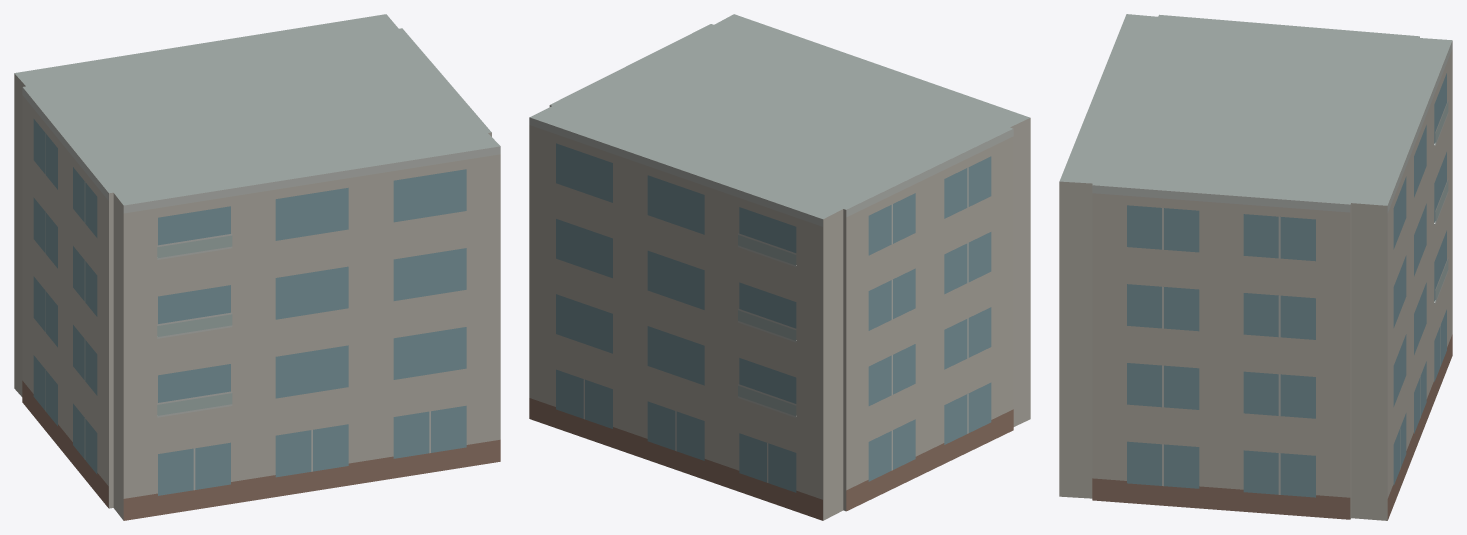
Rendered from survey-upis-32982369.glb.
The picture shows the model from 3 angles, left to right: view 1: azimuth 30°, elevation 25°; view 2: azimuth 150°, elevation 25°; view 3: azimuth 270°, elevation 25°; orthographic projection. The views are drawn at different scales.
Parts seen in each view (by area): view 1: survey-upis-32982369.tmp; view 2: survey-upis-32982369.tmp; view 3: survey-upis-32982369.tmp.
Boxes of the visible parts, x1,y1,x2,y2 form: survey-upis-32982369.tmp: (14, 14, 500, 520); survey-upis-32982369.tmp: (529, 14, 1030, 520); survey-upis-32982369.tmp: (1059, 14, 1452, 520).
Bounding box in the file's own units: 12.6 × 9.65 × 10.92.
